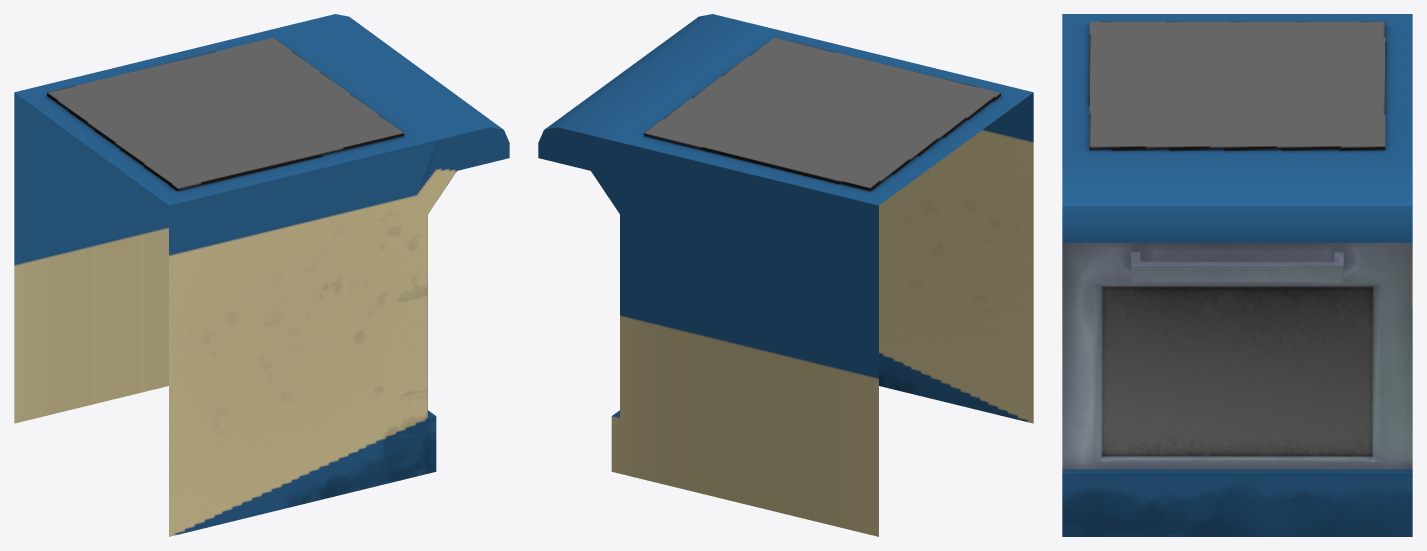
The model's file is PROP_063_Counters_C.fbx.
The picture shows the model from 3 angles, left to right: view 1: azimuth 30°, elevation 25°; view 2: azimuth 150°, elevation 25°; view 3: azimuth 270°, elevation 25°; orthographic projection. The views are drawn at different scales.
Parts seen in each view (by area): view 1: Counter_Oven.002; view 2: Counter_Oven.002; view 3: Counter_Oven.002.
Part boxes in pixels (x1=…): Counter_Oven.002: x1=14, y1=14, x2=509, y2=536; Counter_Oven.002: x1=538, y1=14, x2=1033, y2=536; Counter_Oven.002: x1=1062, y1=14, x2=1412, y2=536.
Bounding box in the file's own units: 1.35 × 1.27 × 1.06.
Materials: 1 (1 with a texture image).
